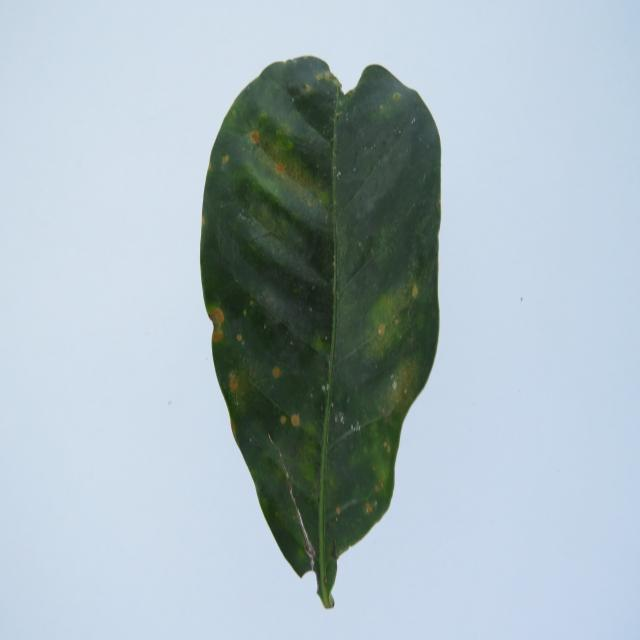DeficienciaNutricional-Boro: (201, 57, 441, 608)
